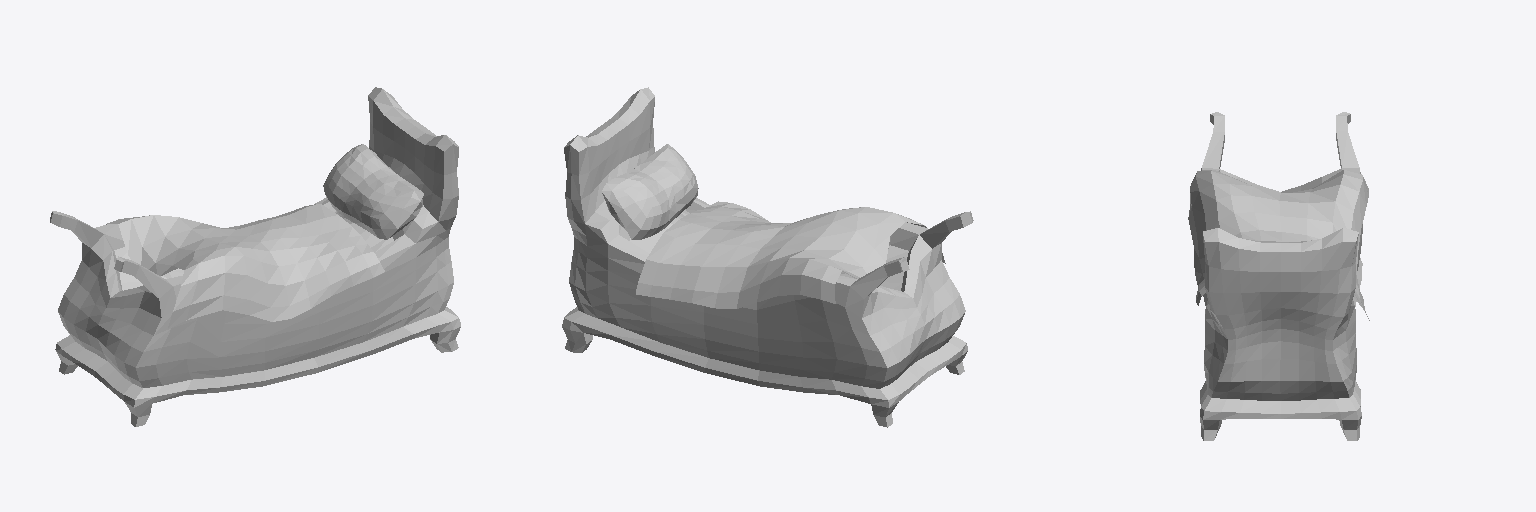
Rendered from BEDjjjjjjjjjjjjjjjjj.OBJ.
3 views of the same model, side by side, from view 1: azimuth 30°, elevation 25°; view 2: azimuth 150°, elevation 25°; view 3: azimuth 270°, elevation 25° (orthographic).
Visible parts, largest first — view 1: Group2; view 2: Group2; view 3: Group2.
Part boxes in pixels (x1,y1,x2,y2): Group2: (50, 87, 460, 426); Group2: (562, 87, 973, 427); Group2: (1188, 112, 1369, 440).
Size of the model in its own units: 8.99 by 5.23 by 4.11.